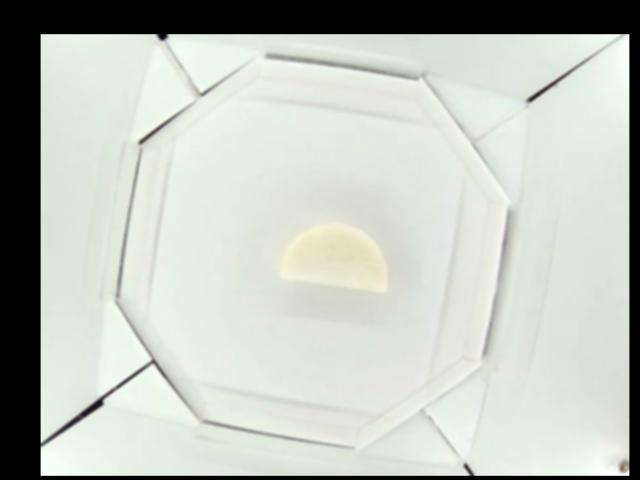Mooli: (277, 225, 390, 289)
